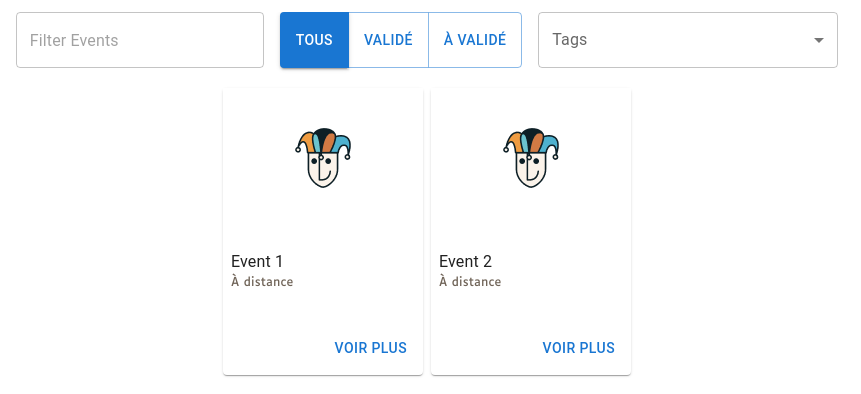
Test: Composant Filter › filtre les événements par tags
The image size is (861, 394).
Expected: the text "Event 1" is shown, [231,252,284,271]
// Trouvez le champ de sélection des tags et sélectionnez la valeur
Press the mouse on the dropdown named "tags" at [688, 40], box [538,12,838,68]
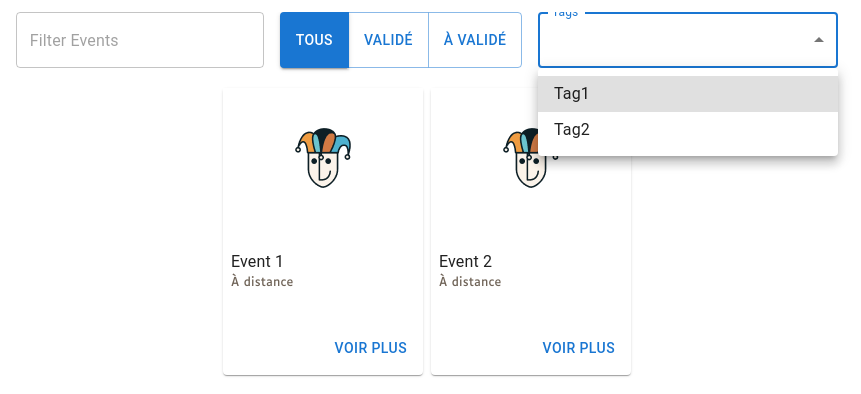
// Trouvez et cliquez sur l'option Tag1
Click the option "Tag1" at [572, 94], box [538,76,838,112]
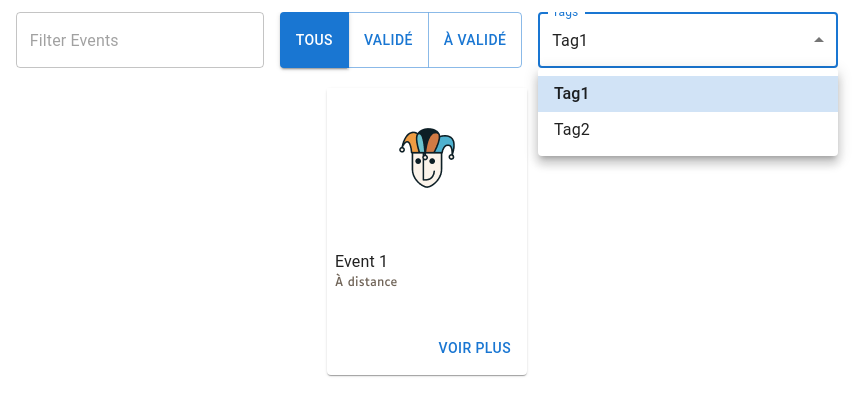
Expected: the text "Event 1" is shown, [335,252,388,271]
Expected: the text "Event 2" is gone
